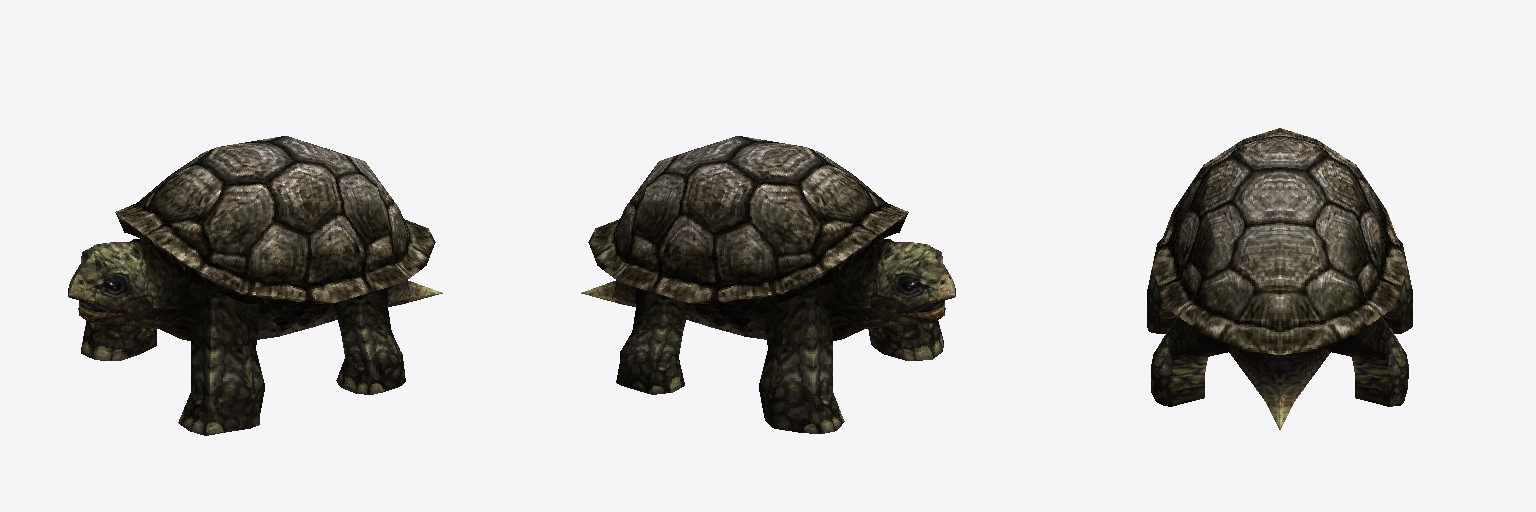
The picture shows the model from 3 angles: view 1: azimuth 30°, elevation 25°; view 2: azimuth 150°, elevation 25°; view 3: azimuth 270°, elevation 25°; orthographic projection.
Parts seen in each view (by area): view 1: cadnav_com; view 2: cadnav_com; view 3: cadnav_com.
Boxes of the visible parts, box(x1,y1,x2,y2) form: cadnav_com: box(68, 136, 442, 435); cadnav_com: box(581, 136, 955, 433); cadnav_com: box(1147, 128, 1412, 429).
Bounding box in the file's own units: 1.33 × 0.7192 × 0.817.
Materials: 1 (1 with a texture image).